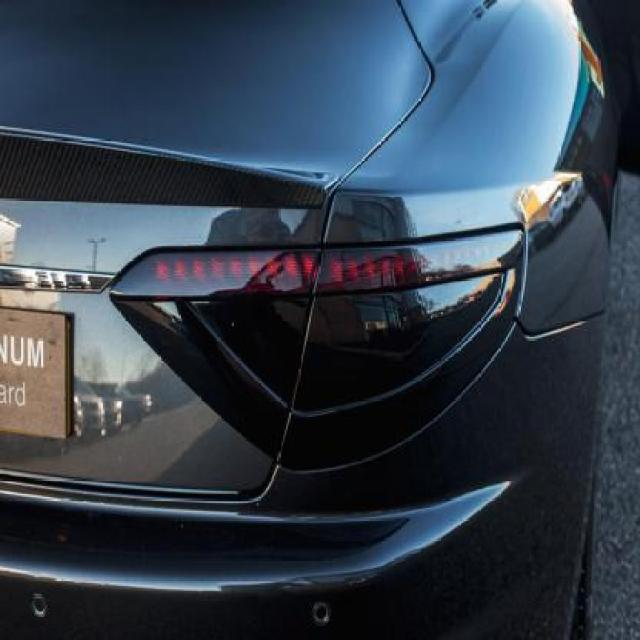License-Plates: (0, 302, 76, 442)
